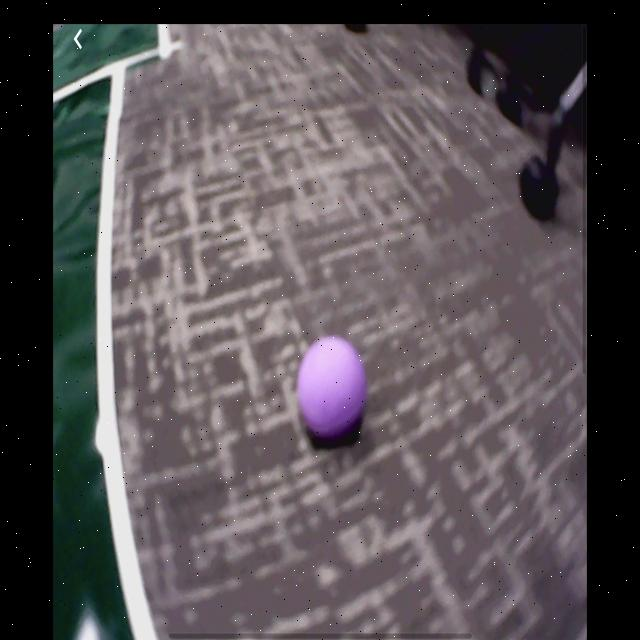ball: (296, 333, 368, 447)
